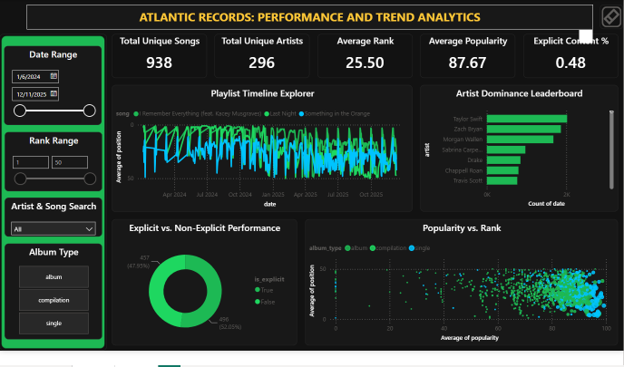

This screenshot's page, from the dashboard's own definition file:
{"tool":"powerbi","page":{"name":"Page 1","canvas":[1280,720],"ordinal":0},"visuals":[{"type":"shape","box":[0,70,219.8,649.7],"z":0},{"type":"slicer","title":"Date Range","fields":{"Values":["Atlantic_United_states.date"]},"box":[9.7,94.2,199.9,162.5],"z":1000},{"type":"slicer","title":"Rank Range","fields":{"Values":["Atlantic_United_states.position"]},"box":[10,270.7,199.9,121.6],"z":2000},{"type":"slicer","title":"Artist & Song Search","fields":{"Values":["Atlantic_United_states.artist","Atlantic_United_states.song"]},"box":[10,406.3,200,80],"z":3000},{"type":"slicer","title":"Album Type","fields":{"Values":["Atlantic_United_states.album_type"]},"box":[10,500.3,199.9,196.5],"z":4000},{"type":"cardVisual","title":"Total Unique Songs","fields":{"Data":["Count(Atlantic_United_states.song)"]},"box":[230,70,195,90],"z":5000},{"type":"cardVisual","title":"Total Unique Artists","fields":{"Data":["Count(Atlantic_United_states.artist)"]},"box":[441,70.1,195,90],"z":6000},{"type":"cardVisual","title":"Average Rank","fields":{"Data":["new measures.Average Rank"]},"box":[652,70,195,90],"z":7000},{"type":"cardVisual","title":"Average Popularity","fields":{"Data":["Avg(Atlantic_United_states.popularity)"]},"box":[863,70.1,195,90],"z":8000},{"type":"cardVisual","title":"Explicit Content %","fields":{"Data":["new measures.Explicit Content Share %"]},"box":[1074,70.1,195,90],"z":9000},{"type":"lineChart","title":"Playlist Timeline Explorer","fields":{"Category":["Atlantic_United_states.date"],"Series":["Atlantic_United_states.song"],"Y":["Avg(Atlantic_United_states.position)"]},"box":[230,175,617,260.7],"z":10000},{"type":"clusteredBarChart","title":"Artist Dominance Leaderboard","fields":{"Category":["Atlantic_United_states.artist"],"Y":["CountNonNull(Atlantic_United_states.date)"]},"box":[863,175,406,260],"z":11000},{"type":"scatterChart","title":"Popularity vs. Rank","fields":{"Category":["Atlantic_United_states.song"],"Series":["Atlantic_United_states.album_type"],"Size":["new measures.Days on Chart"],"X":["Avg(Atlantic_United_states.popularity)"],"Y":["Avg(Atlantic_United_states.position)"]},"box":[626.7,450.1,641.9,259.6],"z":12000},{"type":"donutChart","title":"Explicit vs. Non-Explicit Performance","fields":{"Category":["Atlantic_United_states.is_explicit"],"Y":["Count(Atlantic_United_states.song)"]},"box":[230.3,450.1,380,259.6],"z":13000},{"type":"textbox","box":[55.5,9.7,1161.7,50.7],"z":15000},{"type":"actionButton","box":[1231.7,9.7,48.3,50.7],"z":15001}]}

Visuals, with their boxes on the page's 1280x720 design canvas (x1, y1, x2, y2). These are canvas units, not pixel positions in the 624x367 screenshot, which may show the page scaled, cropped or inside an application window:
shape: region(0, 70, 220, 720)
"Date Range" slicer: region(10, 94, 210, 257)
"Rank Range" slicer: region(10, 271, 210, 392)
"Artist & Song Search" slicer: region(10, 406, 210, 486)
"Album Type" slicer: region(10, 500, 210, 697)
"Total Unique Songs" cardVisual: region(230, 70, 425, 160)
"Total Unique Artists" cardVisual: region(441, 70, 636, 160)
"Average Rank" cardVisual: region(652, 70, 847, 160)
"Average Popularity" cardVisual: region(863, 70, 1058, 160)
"Explicit Content %" cardVisual: region(1074, 70, 1269, 160)
"Playlist Timeline Explorer" lineChart: region(230, 175, 847, 436)
"Artist Dominance Leaderboard" clusteredBarChart: region(863, 175, 1269, 435)
"Popularity vs. Rank" scatterChart: region(627, 450, 1269, 710)
"Explicit vs. Non-Explicit Performance" donutChart: region(230, 450, 610, 710)
textbox: region(56, 10, 1217, 60)
actionButton: region(1232, 10, 1280, 60)
